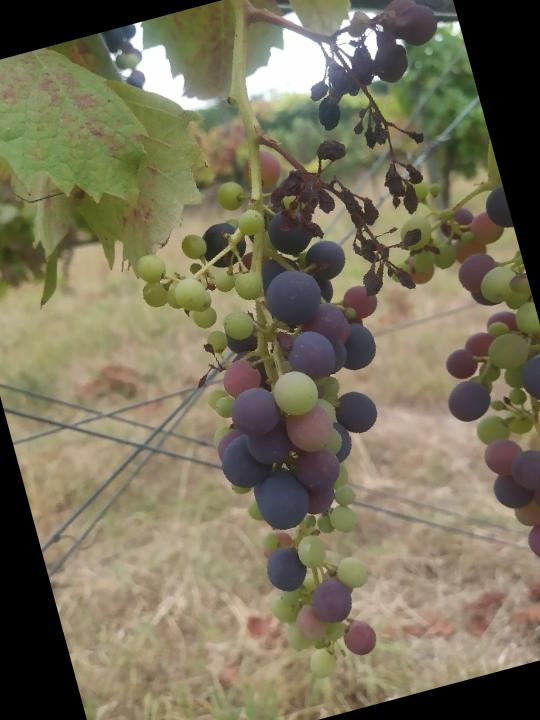grape: (108, 113, 529, 708), (290, 0, 484, 233)
